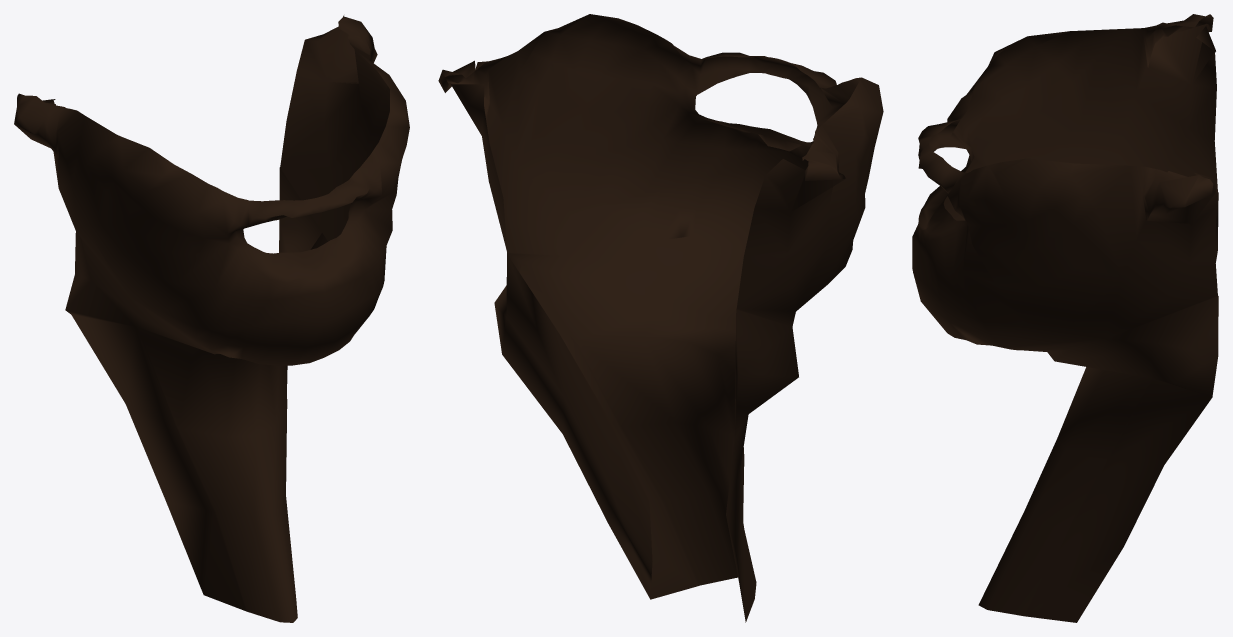
File: beard_long.glb
The picture shows the model from 3 angles, left to right: view 1: azimuth 30°, elevation 25°; view 2: azimuth 150°, elevation 25°; view 3: azimuth 270°, elevation 25°; orthographic projection. The views are drawn at different scales.
Visible parts, largest first — view 1: beard_long; view 2: beard_long; view 3: beard_long.
Boxes of the visible parts, <box> form: beard_long: <box>14,15,409,622</box>; beard_long: <box>438,14,883,622</box>; beard_long: <box>912,14,1218,622</box>.
Size of the model in its own units: 0.1944 by 0.2533 by 0.1382.
